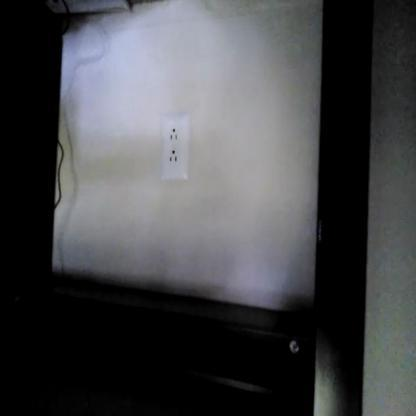OUTLET: (161, 113, 189, 181)
